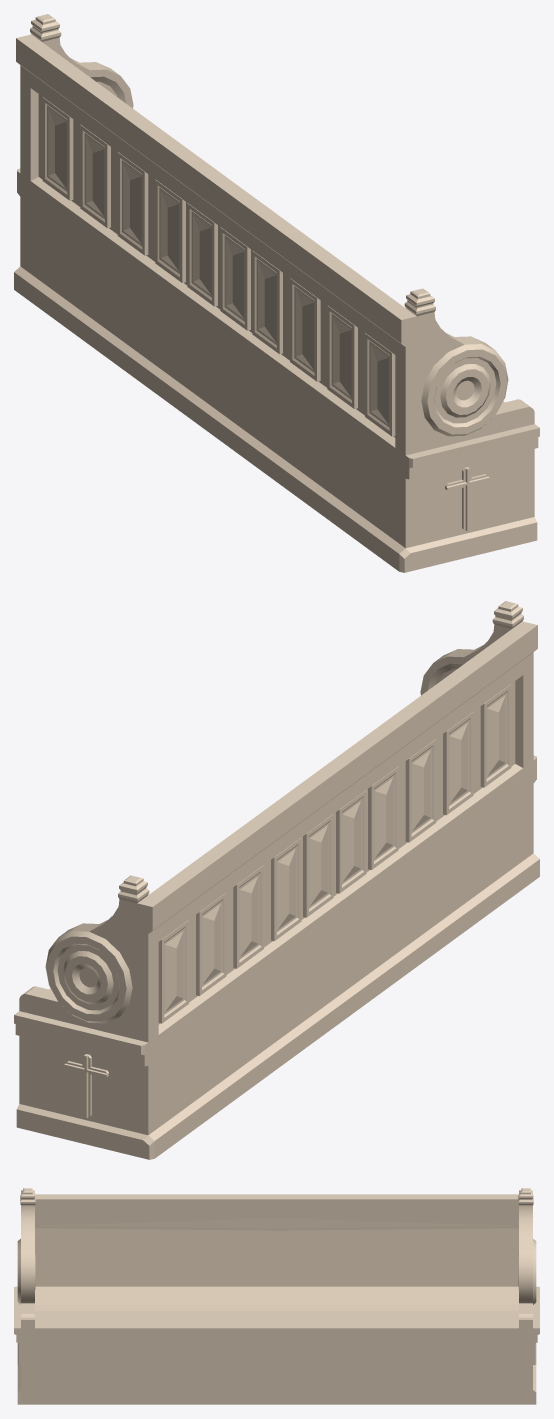
The model's file is BC_Chair_A.fbx.
3 renders of one model, top to bottom at view 1: azimuth 30°, elevation 25°; view 2: azimuth 150°, elevation 25°; view 3: azimuth 270°, elevation 25°, orthographic. The views are drawn at different scales.
Parts seen in each view (by area): view 1: BC_Chair_A; view 2: BC_Chair_A; view 3: BC_Chair_A.
Boxes of the visible parts, x1,y1,x2,y2 form: BC_Chair_A: [14, 14, 539, 572]; BC_Chair_A: [14, 601, 539, 1159]; BC_Chair_A: [14, 1188, 539, 1404].
Bounding box in the file's own units: 112 × 213 × 567.
